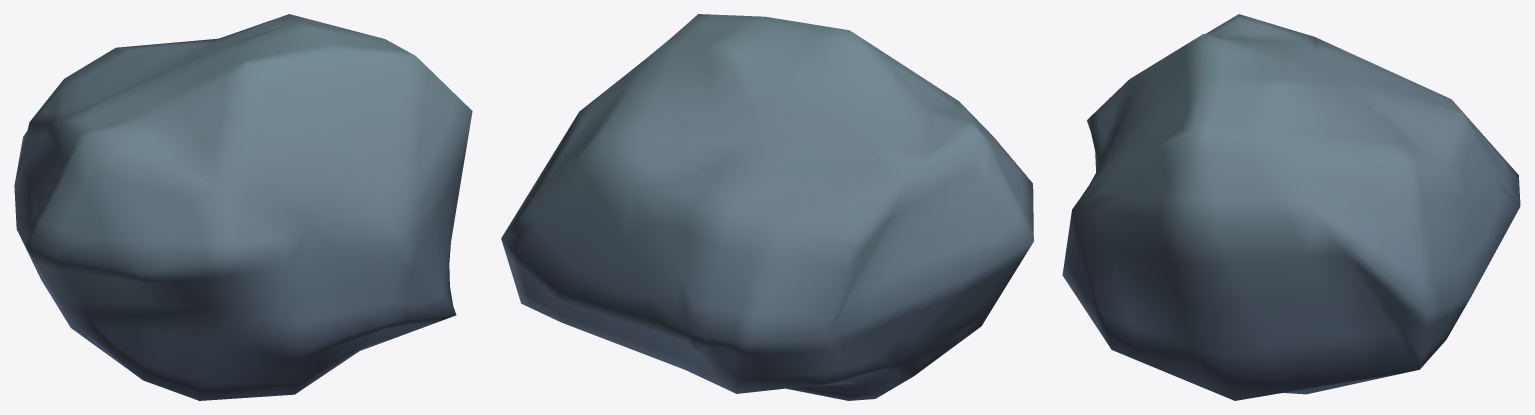
Rendered from SM_Hill_Rock_05.fbx.
3 renders of one model, left to right at view 1: azimuth 30°, elevation 25°; view 2: azimuth 150°, elevation 25°; view 3: azimuth 270°, elevation 25°, orthographic. The views are drawn at different scales.
Parts seen in each view (by area): view 1: Cube.001; view 2: Cube.001; view 3: Cube.001.
Boxes of the visible parts, x1,y1,x2,y2 form: Cube.001: (14,14,472,400); Cube.001: (501,14,1033,400); Cube.001: (1062,14,1520,400).
Size of the model in its own units: 591 by 422 by 560.
1 material, 1 textured.
